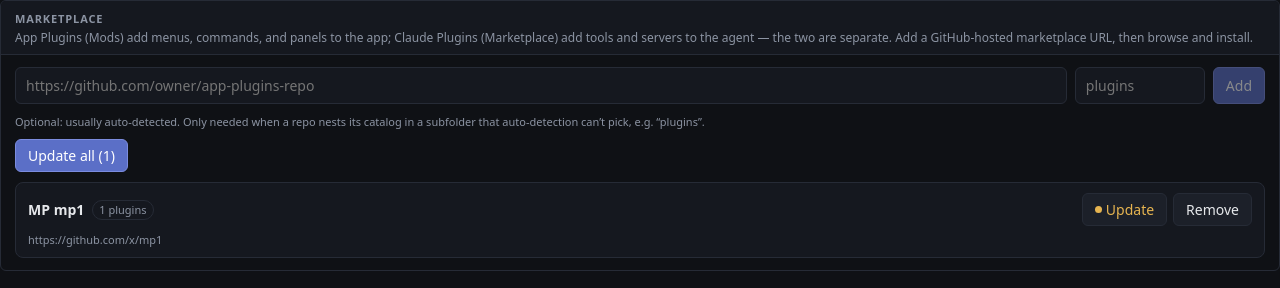
Test: AppPluginMarketplaceSection Update all › surfaces refresh failures even when no plugin has an update
This screenshot has width=1280, height=288.
Click the button "Update all (1)".
click(72, 156)  # box top-left (15, 139), bottom-right (128, 172)
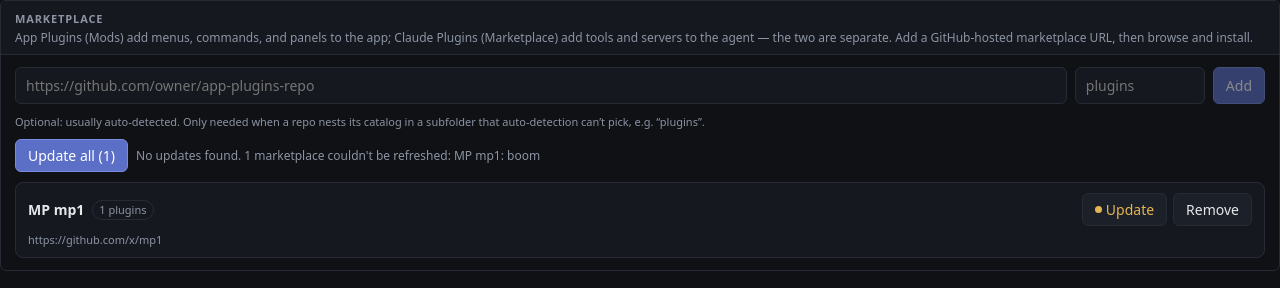
Check: the text "No updates found. 1 marketplace couldn't be refreshed: MP mp1: boom" is shown, box top-left (136, 147), bottom-right (540, 164)
